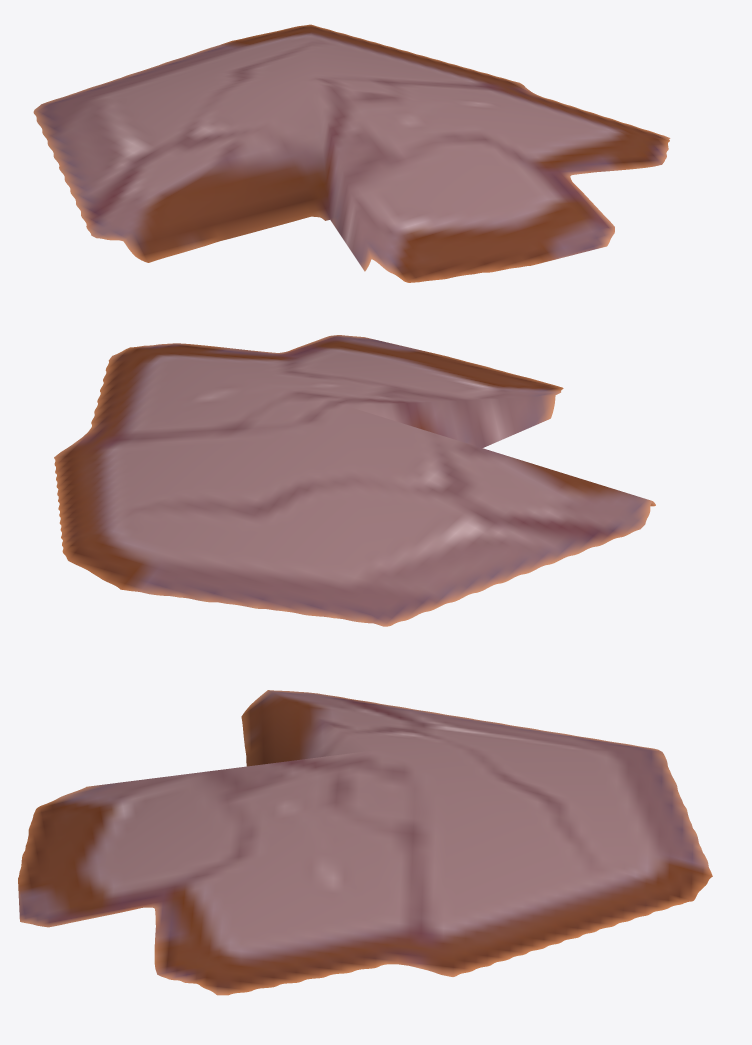
Rendered from Chapter1Scene1Model11.FBX.
The picture shows the model from 3 angles, top to bottom: view 1: azimuth 30°, elevation 25°; view 2: azimuth 150°, elevation 25°; view 3: azimuth 270°, elevation 25°; orthographic projection. The views are drawn at different scales.
Parts seen in each view (by area): view 1: Chapter1Scene1Model11; view 2: Chapter1Scene1Model11; view 3: Chapter1Scene1Model11.
Boxes of the visible parts, x1,y1,x2,y2 form: Chapter1Scene1Model11: [33, 24, 670, 282]; Chapter1Scene1Model11: [54, 335, 655, 626]; Chapter1Scene1Model11: [18, 690, 712, 995].
Size of the model in its own units: 42.3 by 36.2 by 5.21.
